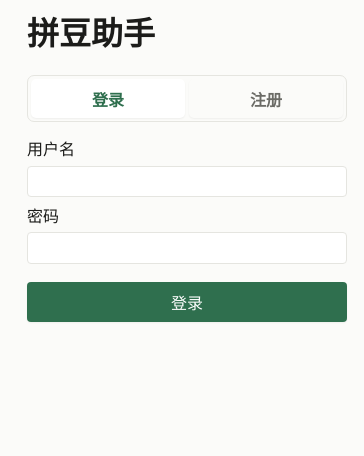
Test case: LoginForm › the selected tab and the fields both change with the mode
Expected: the field labelled "确认密码" is not shown
Click the tab "注册" at (266, 99), box 189,79 -> 343,118
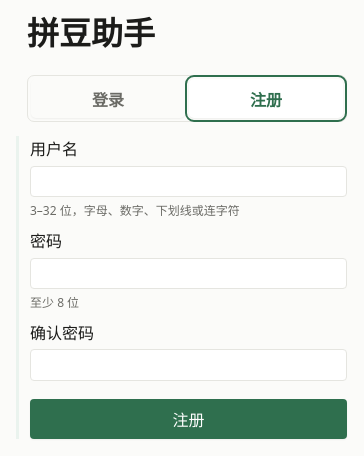
Expected: the password field labelled "确认密码" is shown, 30,349 -> 347,381
